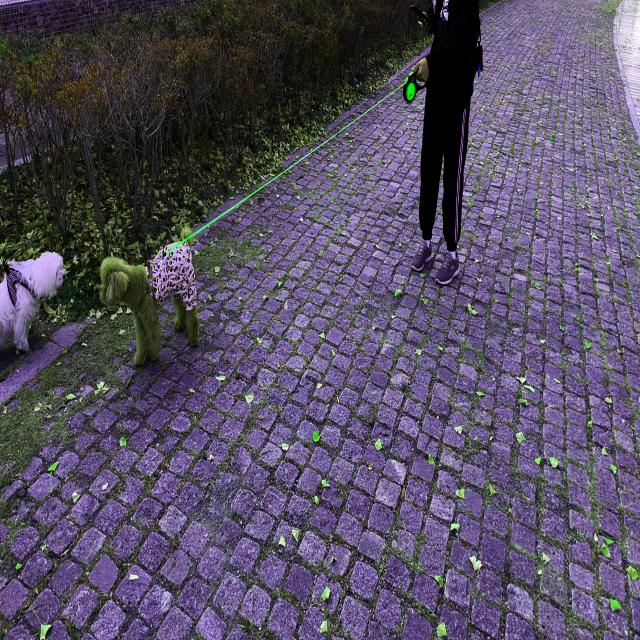Dog: (0, 250, 68, 356)
Leashed_Dog: (98, 54, 443, 368)
